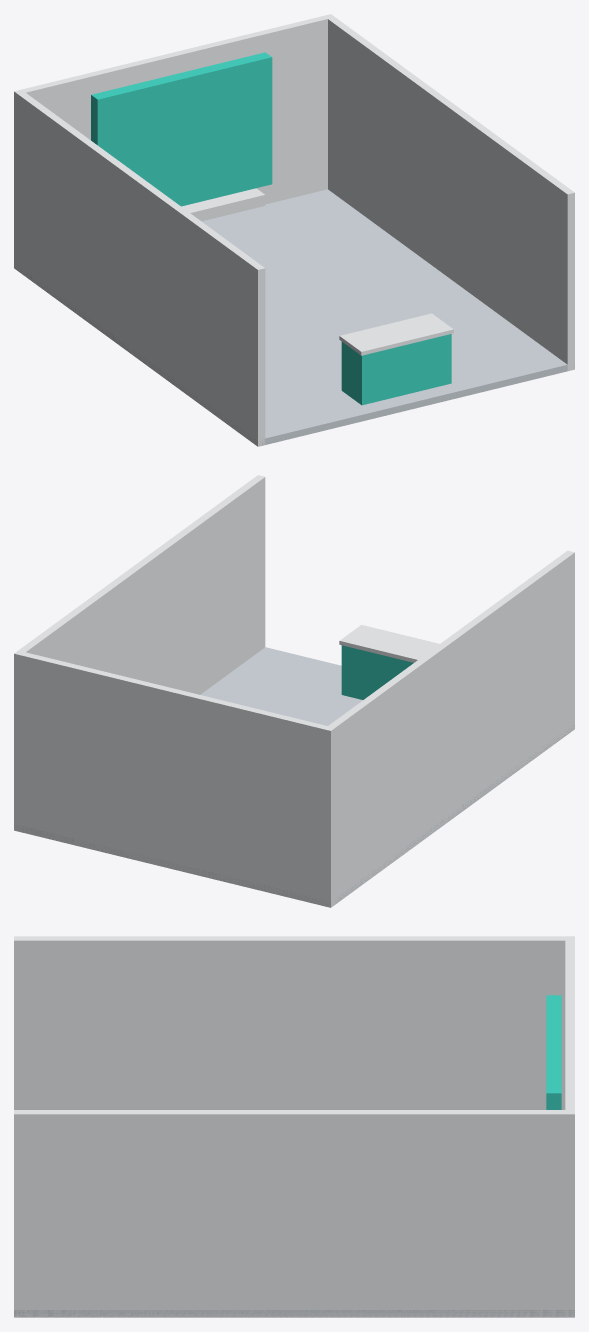
3 renders of one model, top to bottom at view 1: azimuth 30°, elevation 25°; view 2: azimuth 150°, elevation 25°; view 3: azimuth 270°, elevation 25°, orthographic. The views are drawn at different scales.
Parts seen in each view (by area): view 1: Exhibition Booth Concept; view 2: Exhibition Booth Concept; view 3: Exhibition Booth Concept.
Boxes of the visible parts, x1,y1,x2,y2 form: Exhibition Booth Concept: [14, 14, 574, 446]; Exhibition Booth Concept: [14, 475, 574, 907]; Exhibition Booth Concept: [14, 936, 574, 1317].
Size of the model in its own units: 6 by 3.2 by 8.
